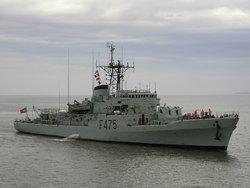warship: (10, 38, 241, 148)
